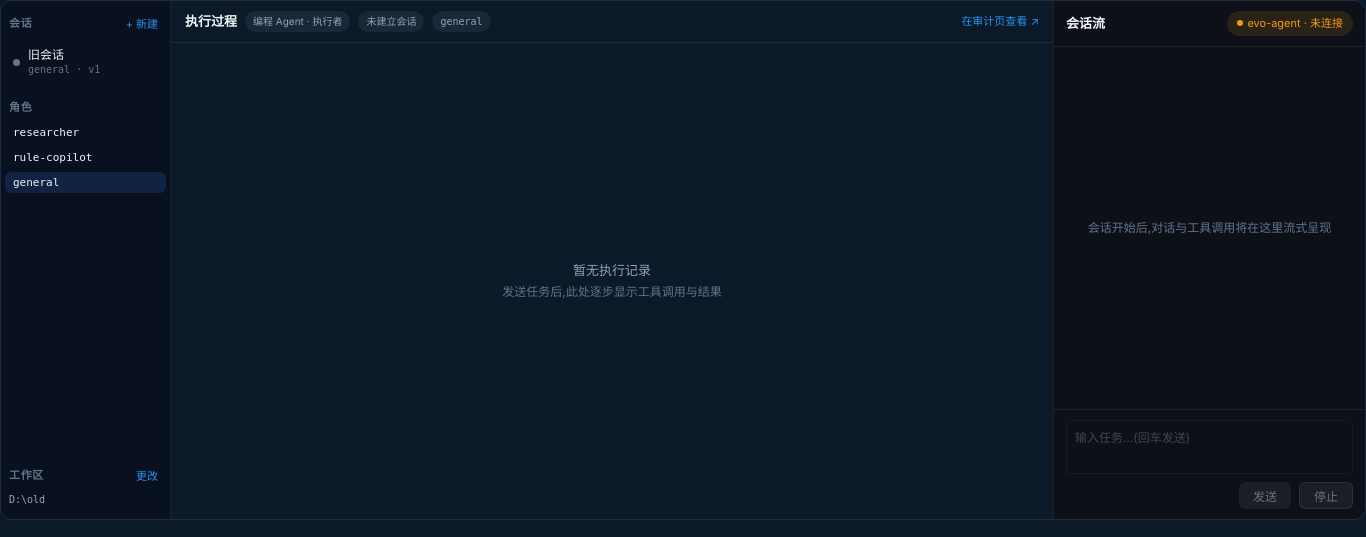
Test: AgentWorkspace — 工作文件夹(会话级声明,B-066) › 恢复默认:清记忆+指示器回落兜底;续接会话不带声明(边界不随偏好撕裂)
The image size is (1366, 537).
Step 1. Click the button with class "sit" → (86,62), box [5,39,166,85]
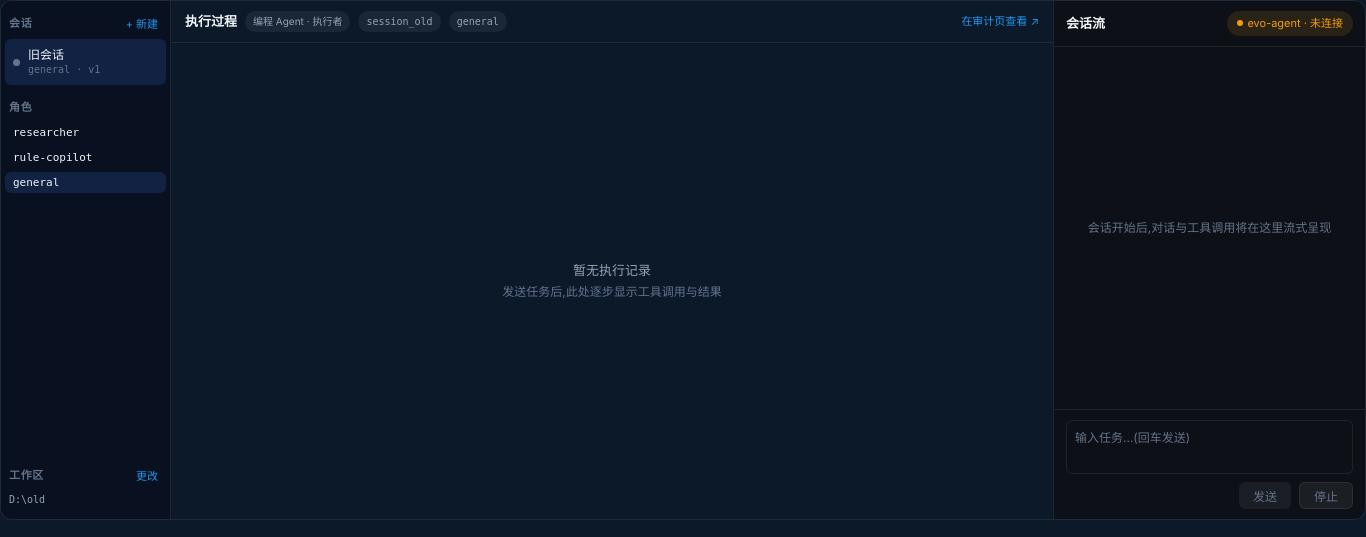
Step 2. Type "续接" into the text box with placeholder "输入任务…(回车发送)" → (1210,447), box [1066,420,1353,474]
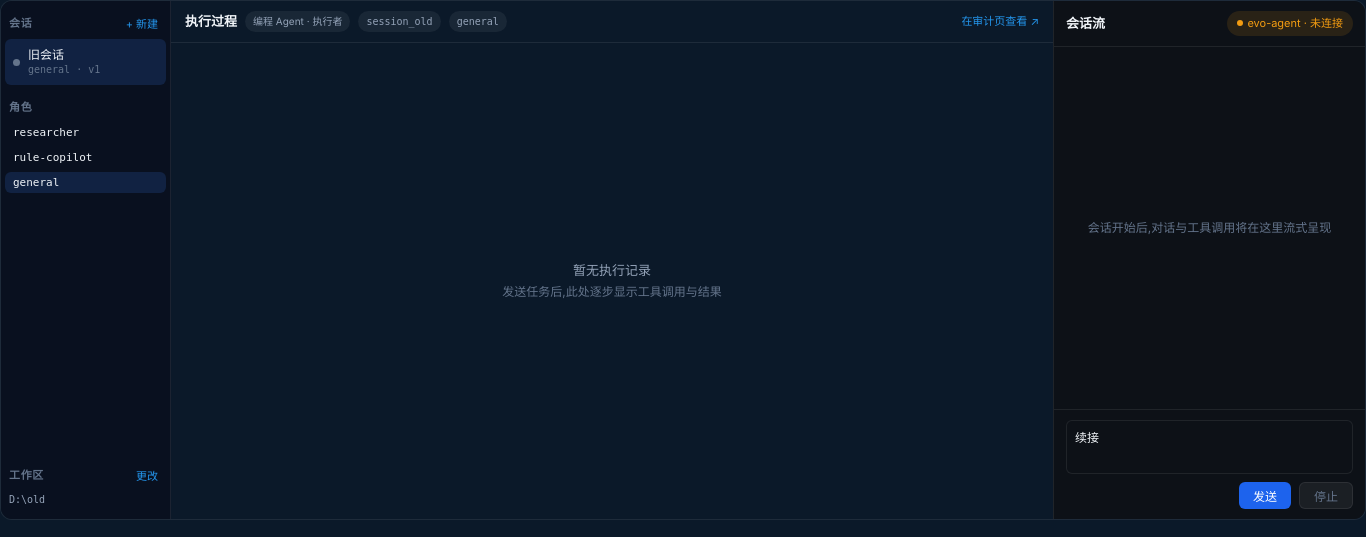
Step 3. Click the button "发送" → (1265,496), box [1239,482,1291,509]
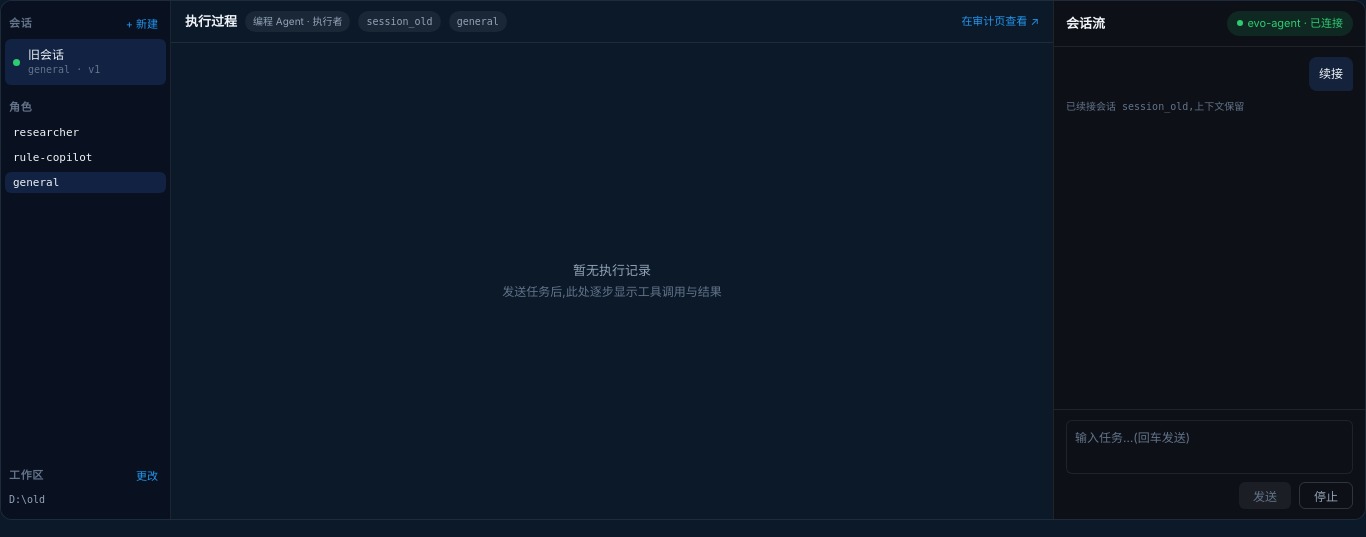
Step 4. Click the button "更改" → (147,475), box [132,465,162,485]
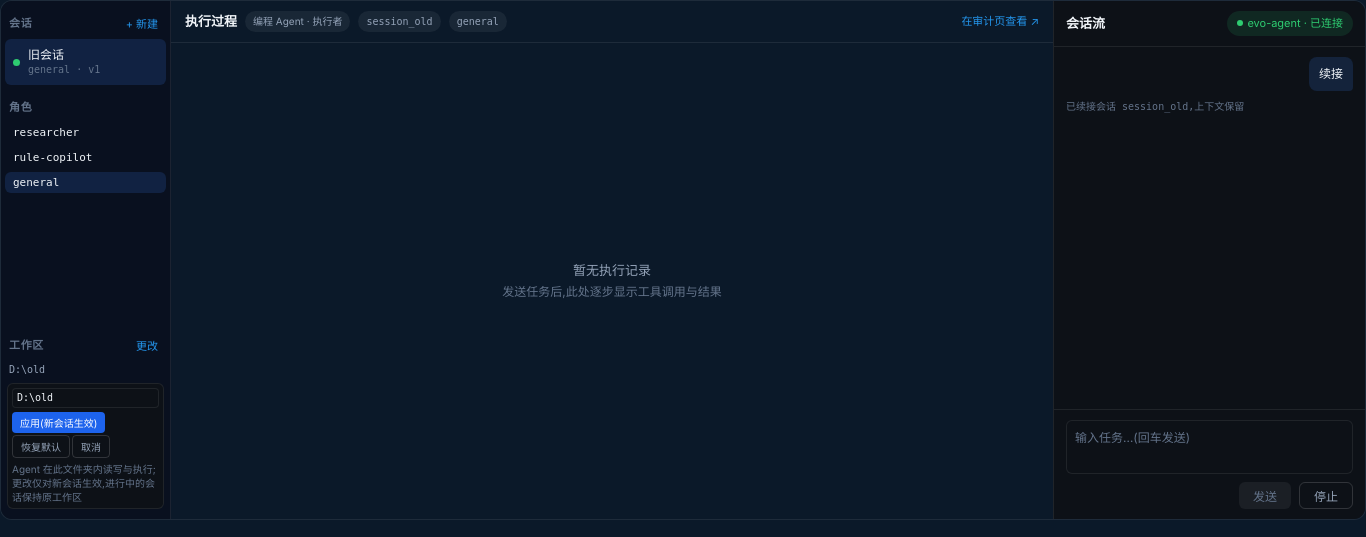
Step 5. Click the button "恢复默认" → (41,446), box [12,435,70,458]
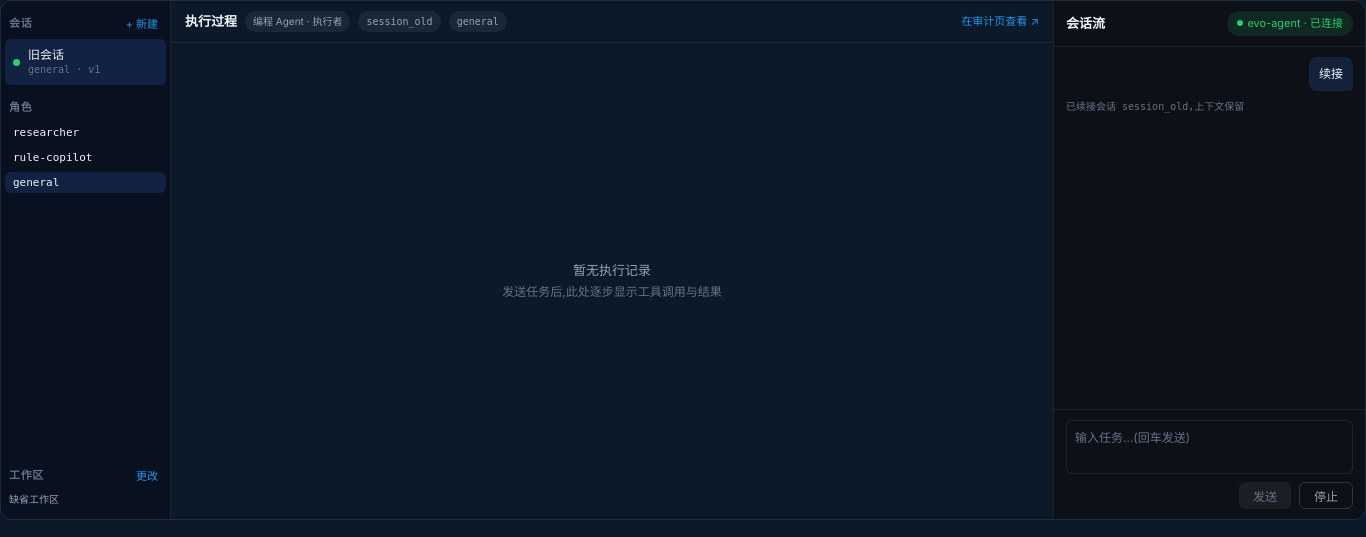
Result: the text with class "ws-path" reads "缺省工作区" at [9,494,59,505]
